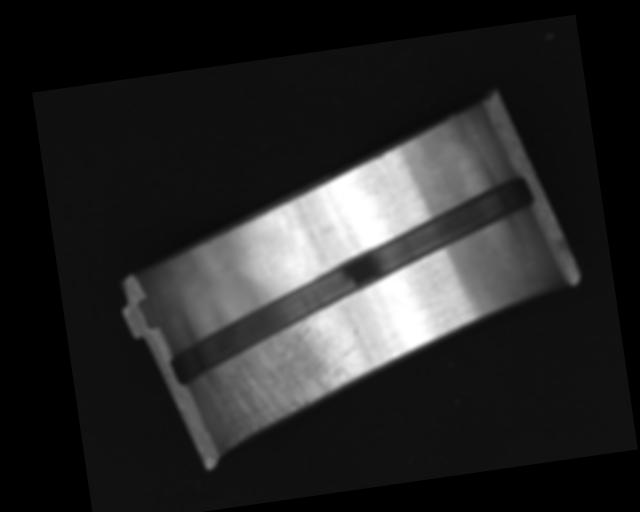gap: (151, 174, 553, 387)
scratch: (200, 305, 365, 446)
